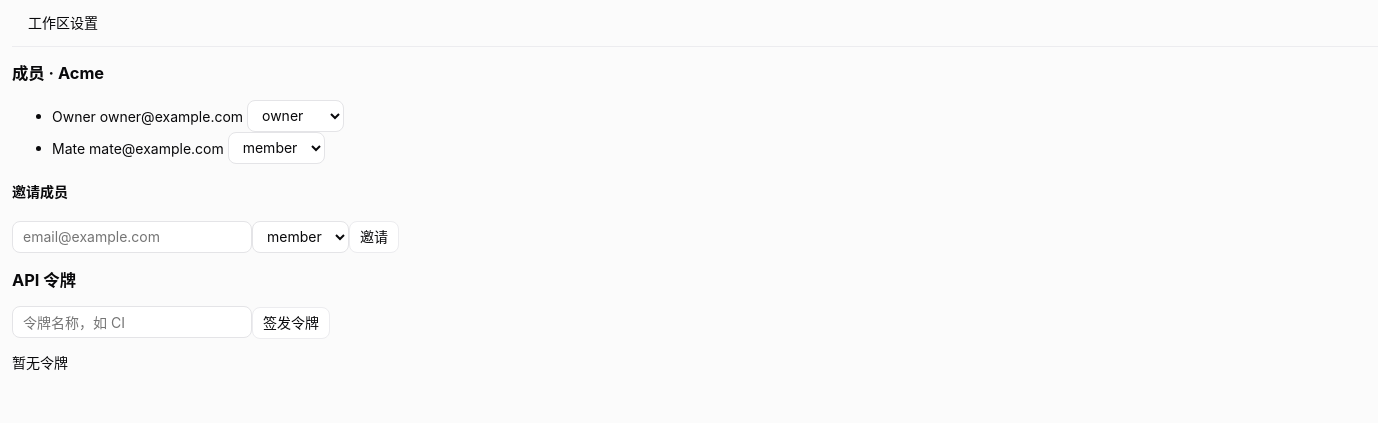
it: SettingsPage › invites an unknown email and shows the code once
This screenshot has width=1378, height=423.
Type "ghost@example.com" into the field with test id "invite-email" at (132, 237), box [12,221,252,253]
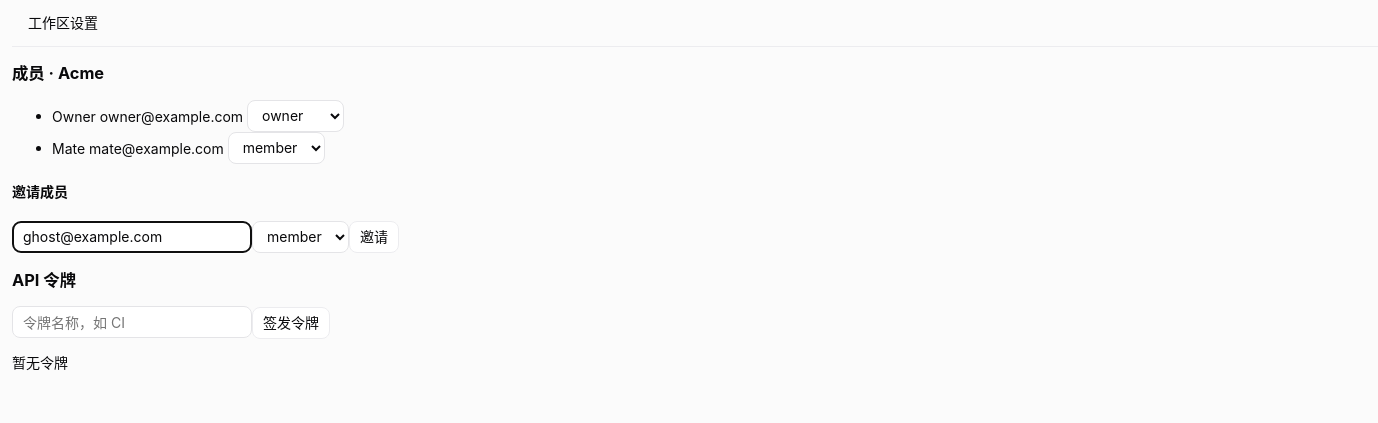
Click the button with test id "invite-submit" at (374, 238), box [349,222,399,254]
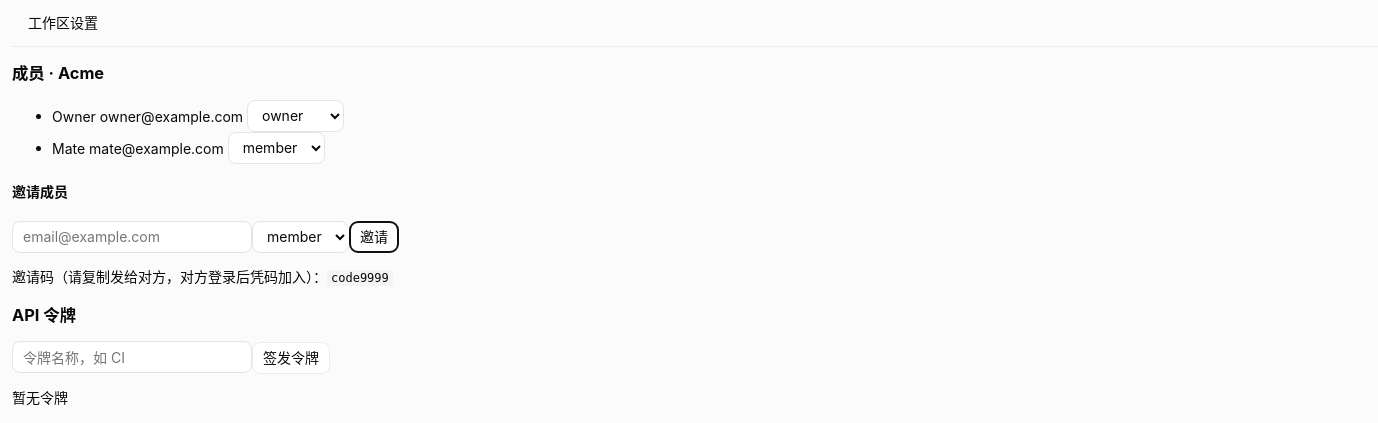
Check: the element with test id "invite-code" shows "code9999", box [331,272,389,286]
